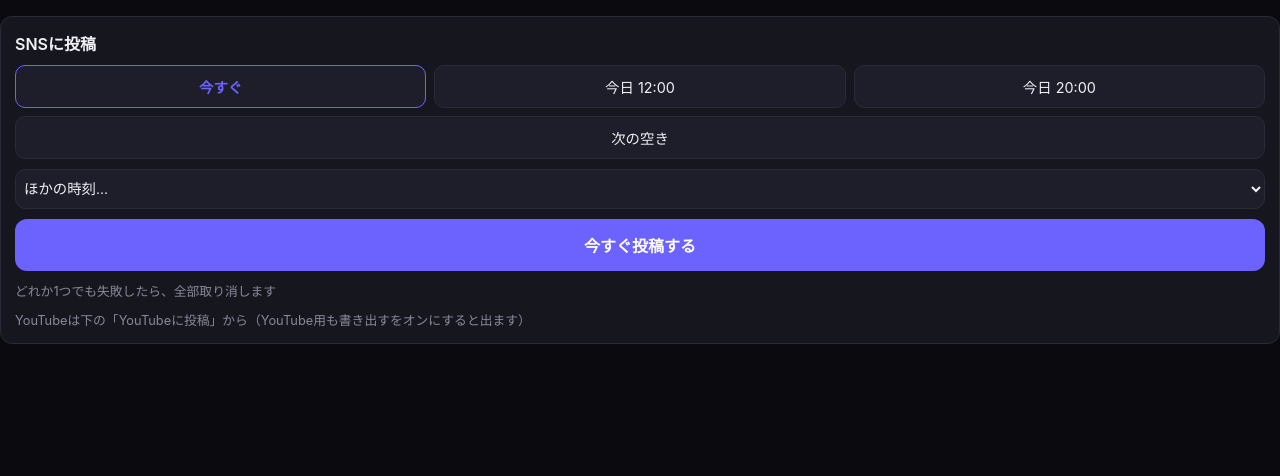
it: PostToSns › says nothing went out when one failed and the rest were taken back, and sends to all again
The width and height of the screenshot is (1280, 476).
Click the button "今すぐ投稿する".
click(640, 245)  # box [15,219,1265,271]
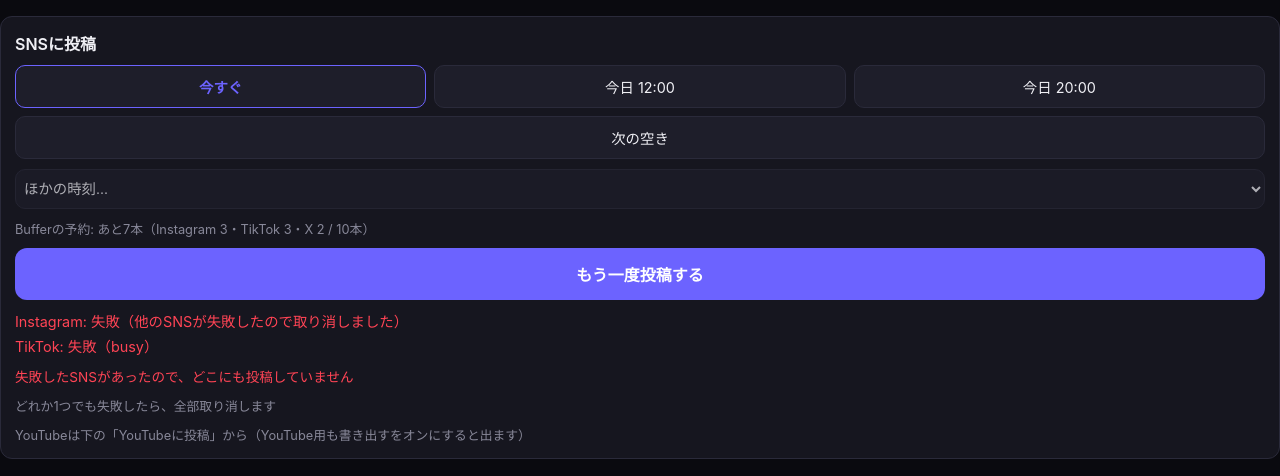
Check: the text "失敗したSNSがあったので、どこにも投稿していません" is shown, box [15,369,354,385]
Check: the list item "Instagram: 失敗（他のSNSが失敗したので取り消しました）" is shown, box [15,313,408,330]
Click the button "もう一度投稿する".
click(640, 274)  # box [15,248,1265,300]
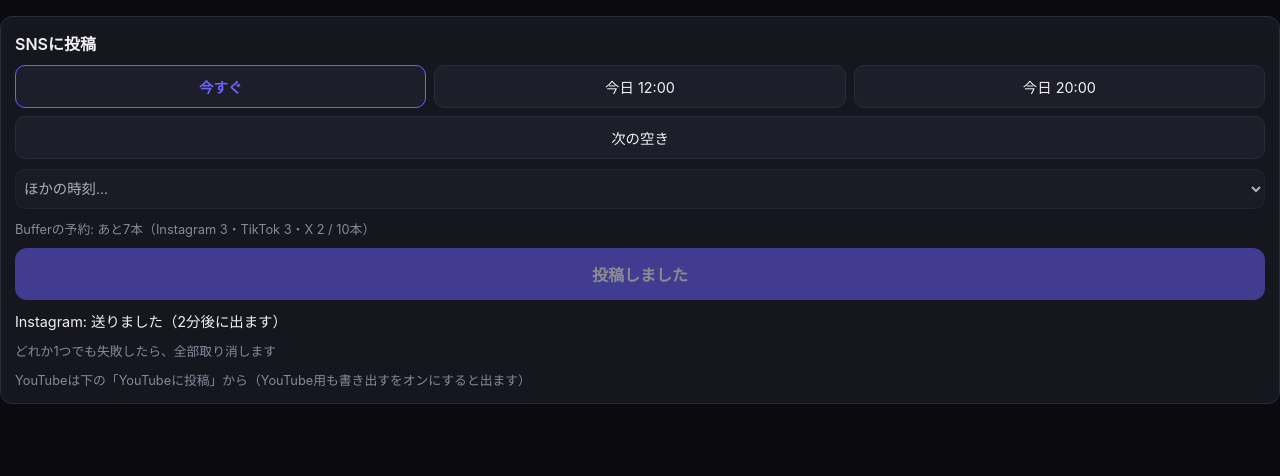
Check: the list item "Instagram: 送りました（2分後に出ます）" is shown, box [15,313,287,330]
